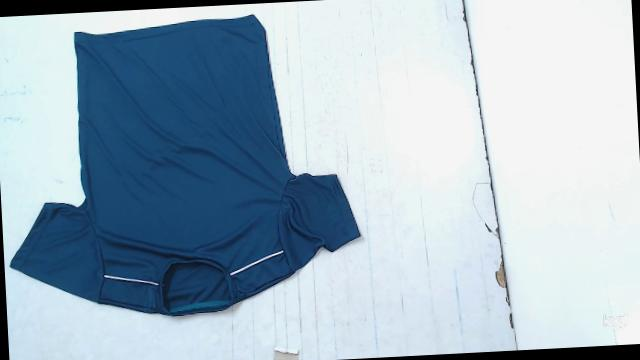new-garment: (10, 15, 359, 315)
